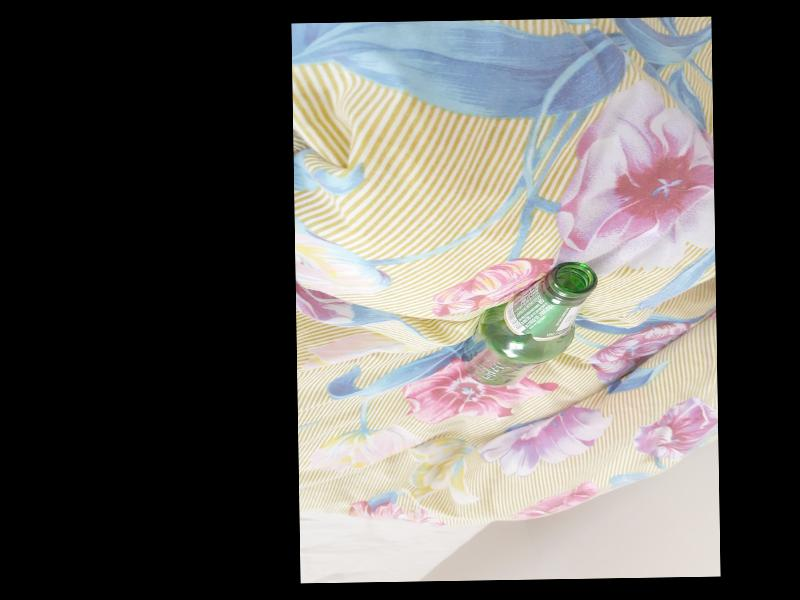Beer: (460, 259, 600, 386)
